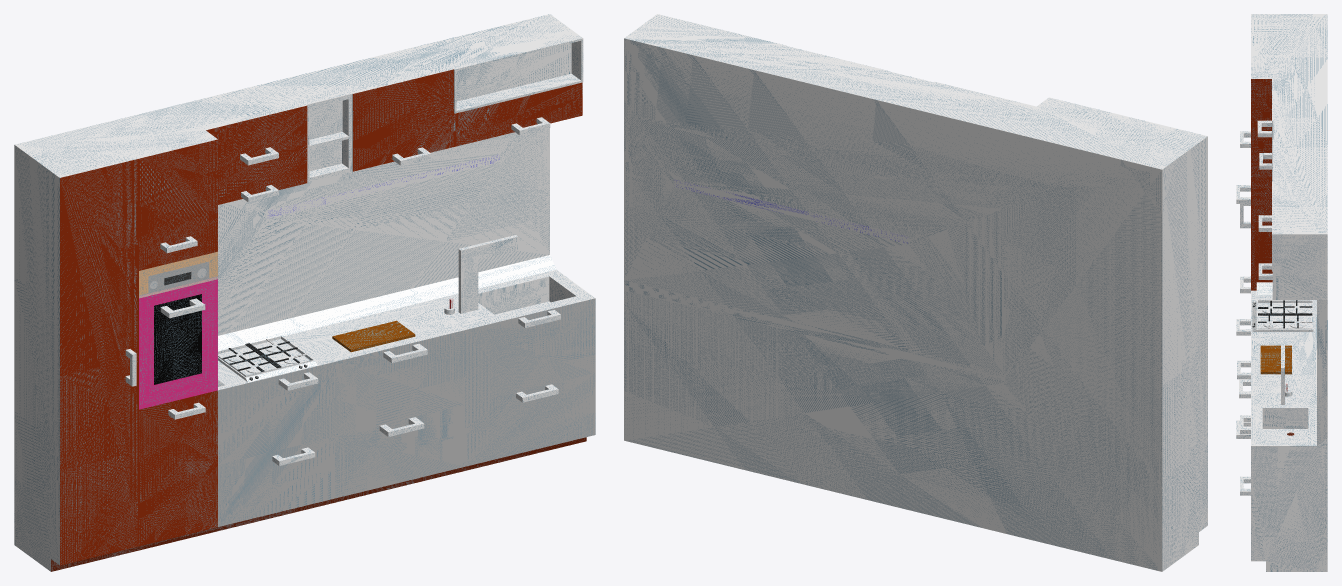
3 views of the same model, side by side, from view 1: azimuth 30°, elevation 25°; view 2: azimuth 150°, elevation 25°; view 3: azimuth 270°, elevation 25° (orthographic). The views are drawn at different scales.
Visible parts, largest first — view 1: SketchUp (×15); view 2: SketchUp (×2); view 3: SketchUp (×9), Component_7 (×8), Component_6 (×6).
Boxes of the visible parts, <box> form: SketchUp (×15): <box>14,14,595,571</box>; SketchUp (×2): <box>624,14,1207,571</box>; SketchUp (×9): <box>1251,14,1327,571</box>; Component_7 (×8): <box>1236,120,1272,335</box>; Component_6 (×6): <box>1236,185,1250,495</box>.
Bounding box in the file's own units: 276 × 48.43 × 197.
